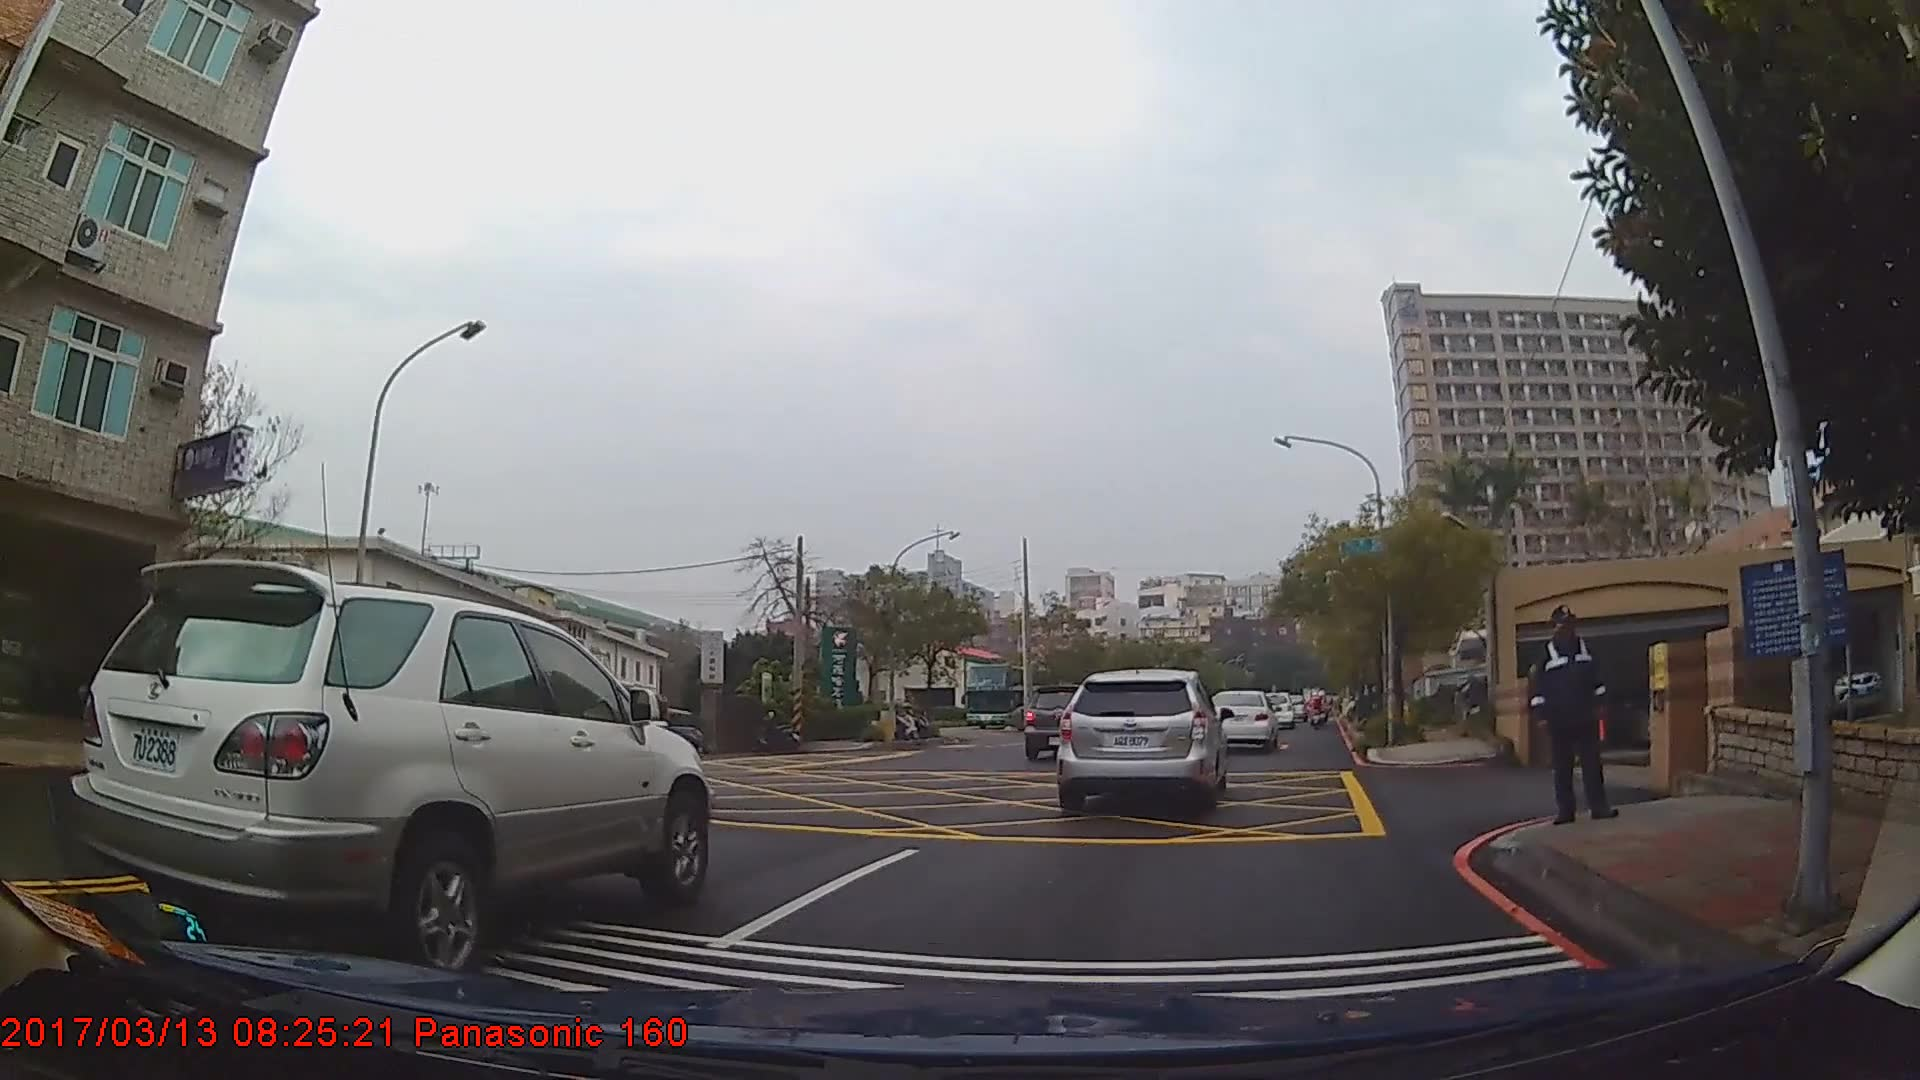pedestrian: (1525, 602, 1615, 824)
vehicle: (66, 553, 710, 973), (1056, 663, 1226, 809), (964, 661, 1064, 728), (1019, 681, 1108, 755), (1205, 687, 1277, 750)
